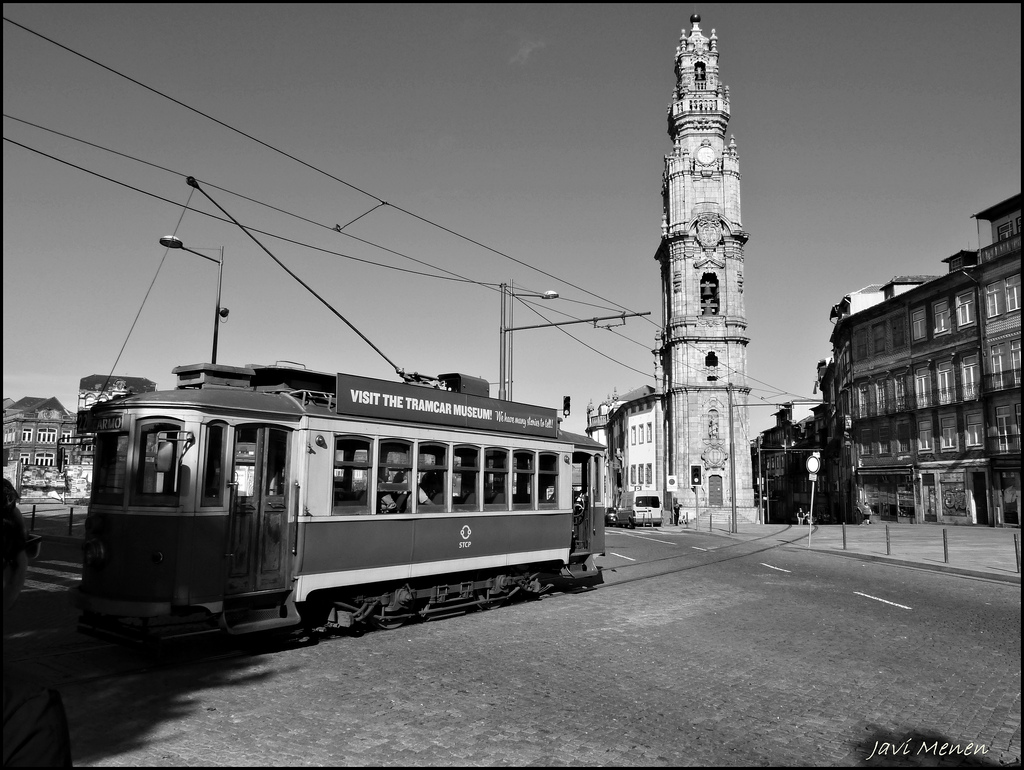clerigos: (643, 11, 756, 508)
